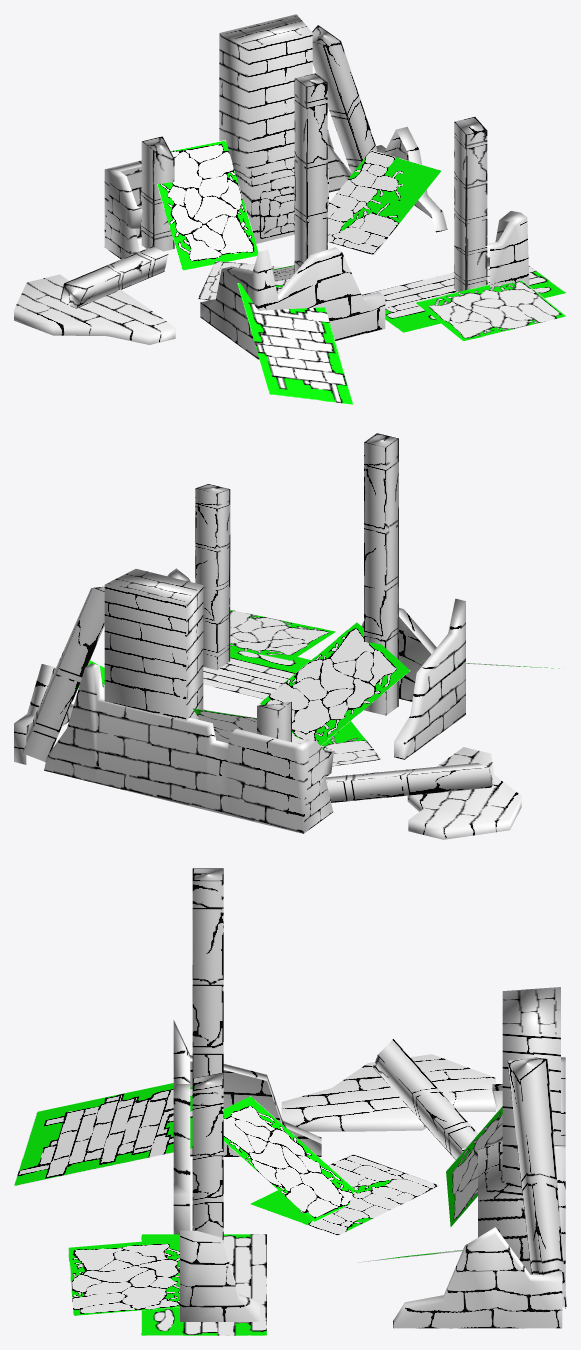
Rendered from Building_03.fbx.
3 views of the same model, one above another, from view 1: azimuth 30°, elevation 25°; view 2: azimuth 150°, elevation 25°; view 3: azimuth 270°, elevation 25° (orthographic). The views are drawn at different scales.
Parts seen in each view (by area): view 1: Building_03; view 2: Building_03; view 3: Building_03.
Boxes of the visible parts, x1=… form: Building_03: x1=14, y1=14, x2=566, y2=404; Building_03: x1=14, y1=433, x2=559, y2=839; Building_03: x1=14, y1=868, x2=566, y2=1335.
Bounding box in the file's own units: 41.92 × 23.8 × 35.89.
